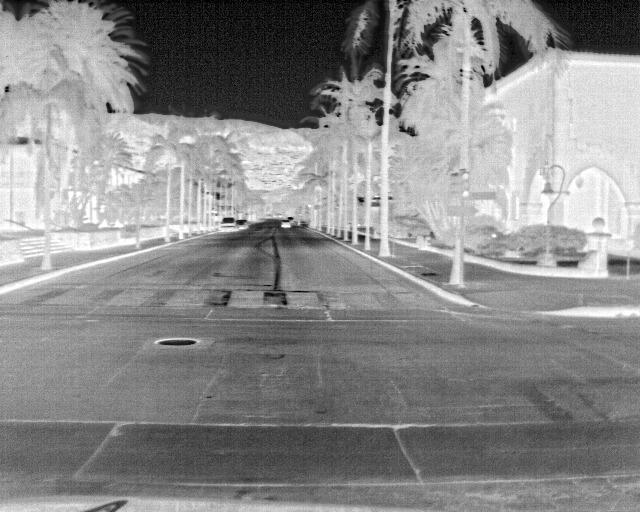car: (220, 217, 237, 232), (281, 220, 291, 229), (236, 221, 245, 230), (243, 220, 250, 229), (287, 217, 294, 224), (278, 215, 282, 219)
light: (461, 173, 469, 199), (450, 173, 458, 199)
sign: (445, 206, 476, 216), (471, 192, 492, 201)
